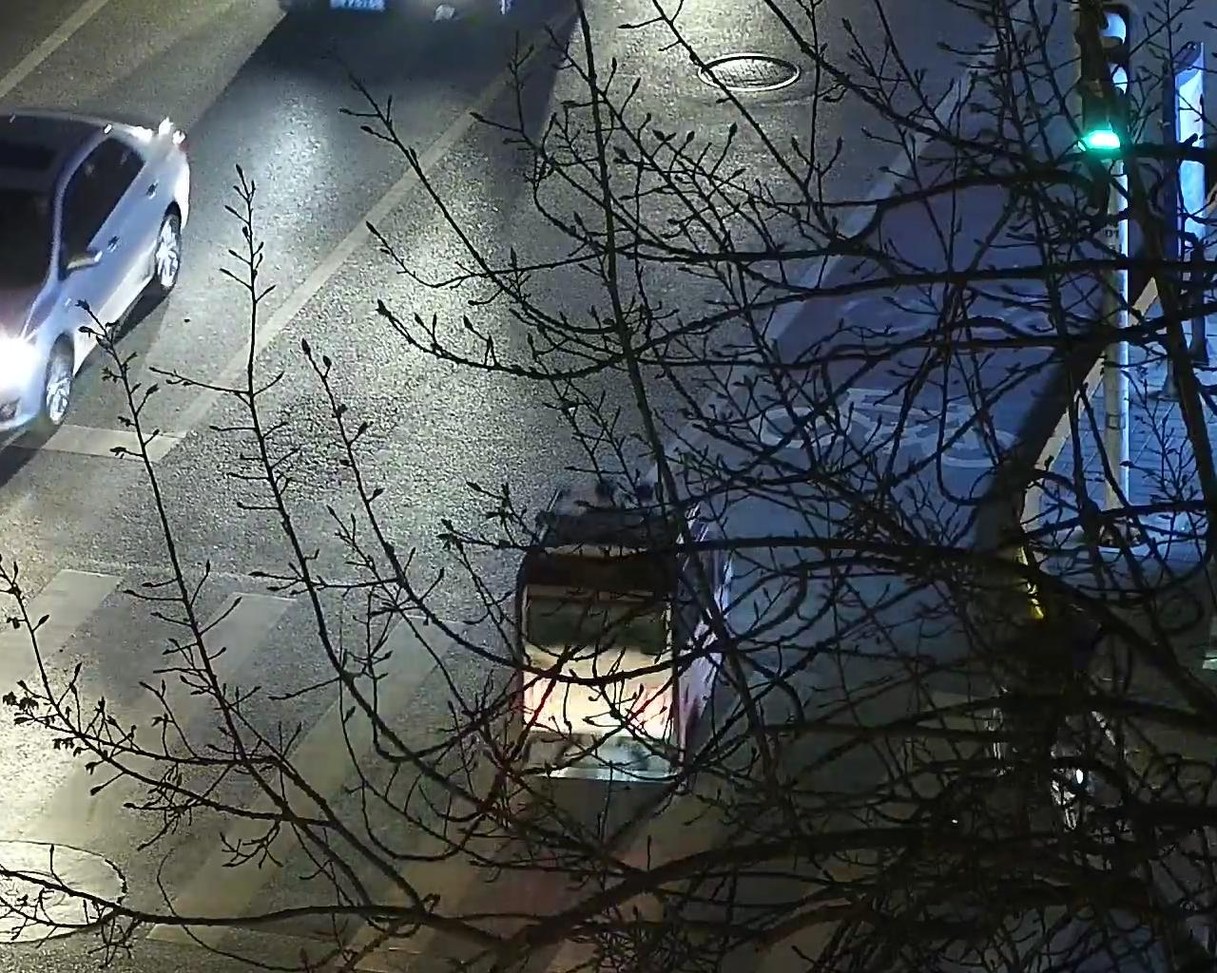person: (1002, 581, 1105, 780)
